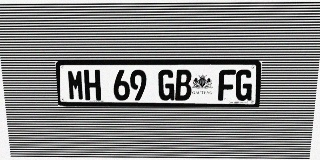6: (113, 70, 130, 100)
9: (130, 70, 147, 100)
B: (175, 70, 192, 101)
F: (218, 70, 236, 101)
G: (235, 70, 253, 101), (158, 70, 175, 101)
H: (84, 70, 101, 100)
M: (67, 70, 85, 100)
